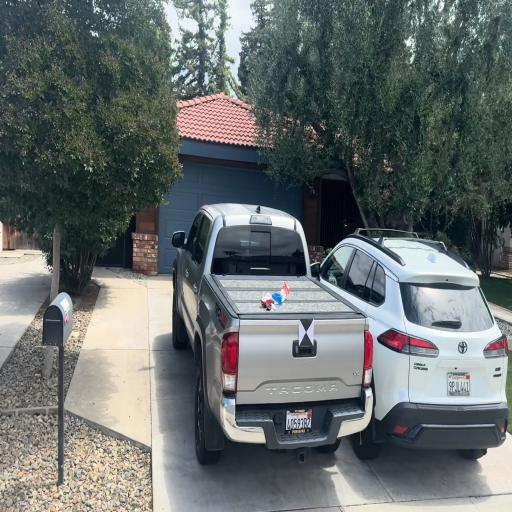target: (299, 318, 315, 346)
